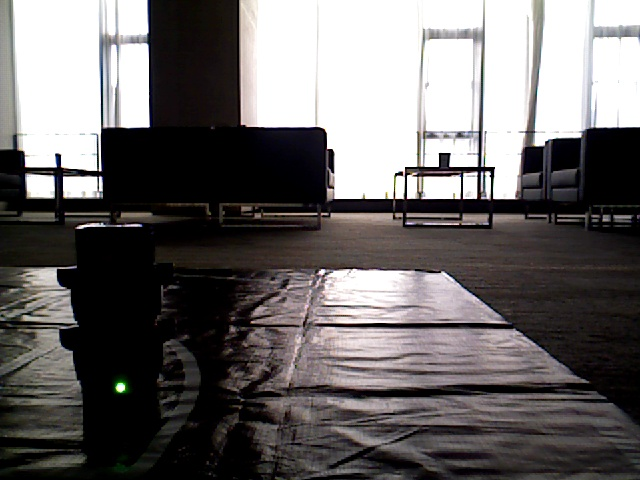green: (90, 248, 145, 402)
